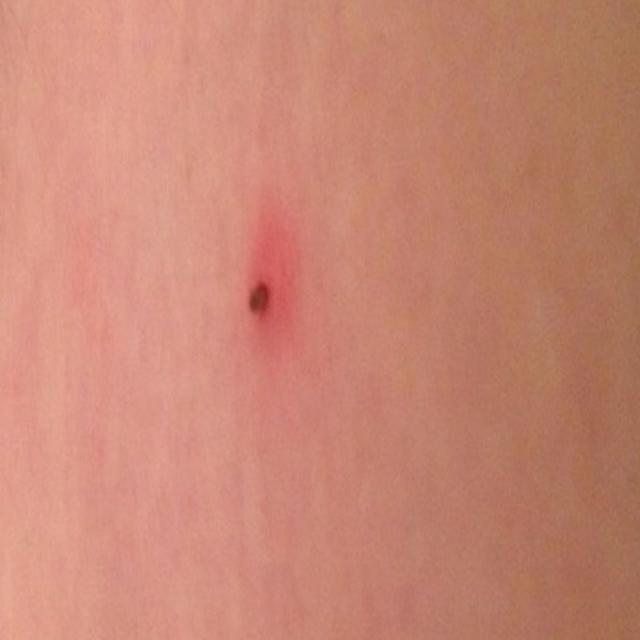kene: (238, 264, 282, 329)
